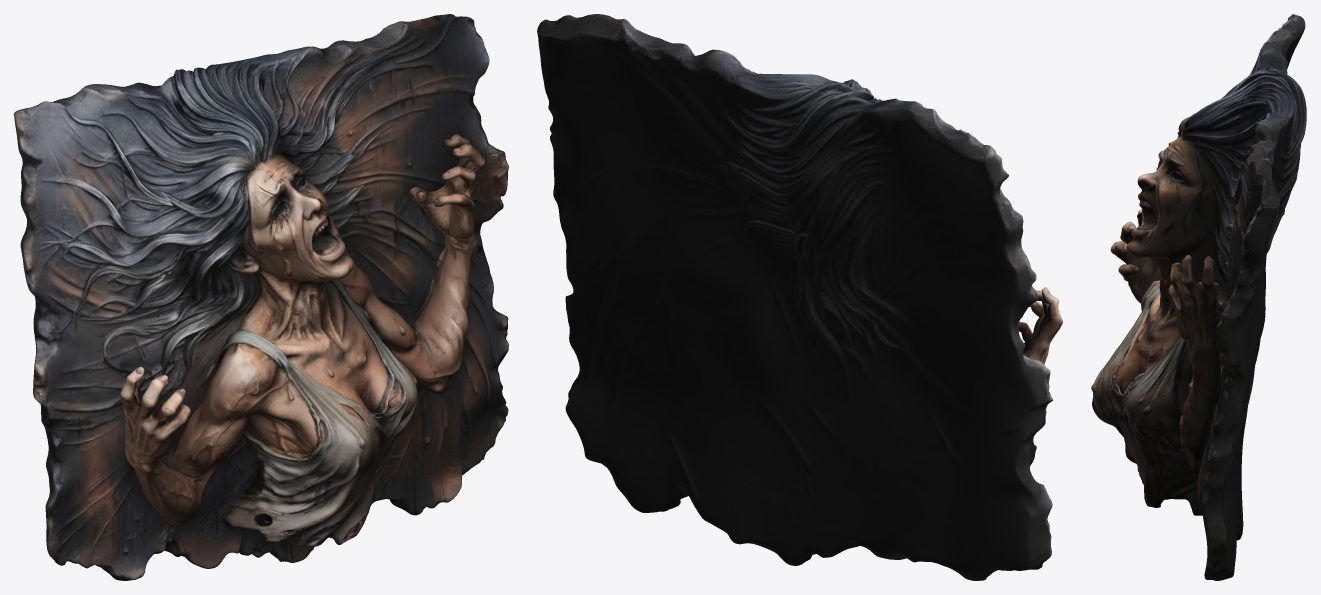
The picture shows the model from 3 angles, left to right: view 1: azimuth 30°, elevation 25°; view 2: azimuth 150°, elevation 25°; view 3: azimuth 270°, elevation 25°; orthographic projection. The views are drawn at different scales.
Visible parts, largest first — view 1: tripo_node_79eeb8b6-08d7-4d38-b8a3-e0ad18537d38; view 2: tripo_node_79eeb8b6-08d7-4d38-b8a3-e0ad18537d38; view 3: tripo_node_79eeb8b6-08d7-4d38-b8a3-e0ad18537d38.
Boxes of the visible parts, bbox=[...] form: tripo_node_79eeb8b6-08d7-4d38-b8a3-e0ad18537d38: bbox=[14, 14, 508, 580]; tripo_node_79eeb8b6-08d7-4d38-b8a3-e0ad18537d38: bbox=[537, 14, 1062, 580]; tripo_node_79eeb8b6-08d7-4d38-b8a3-e0ad18537d38: bbox=[1091, 14, 1306, 580].
Bounding box in the file's own units: 0.979 × 0.9808 × 0.438.
1 material, 1 textured.
